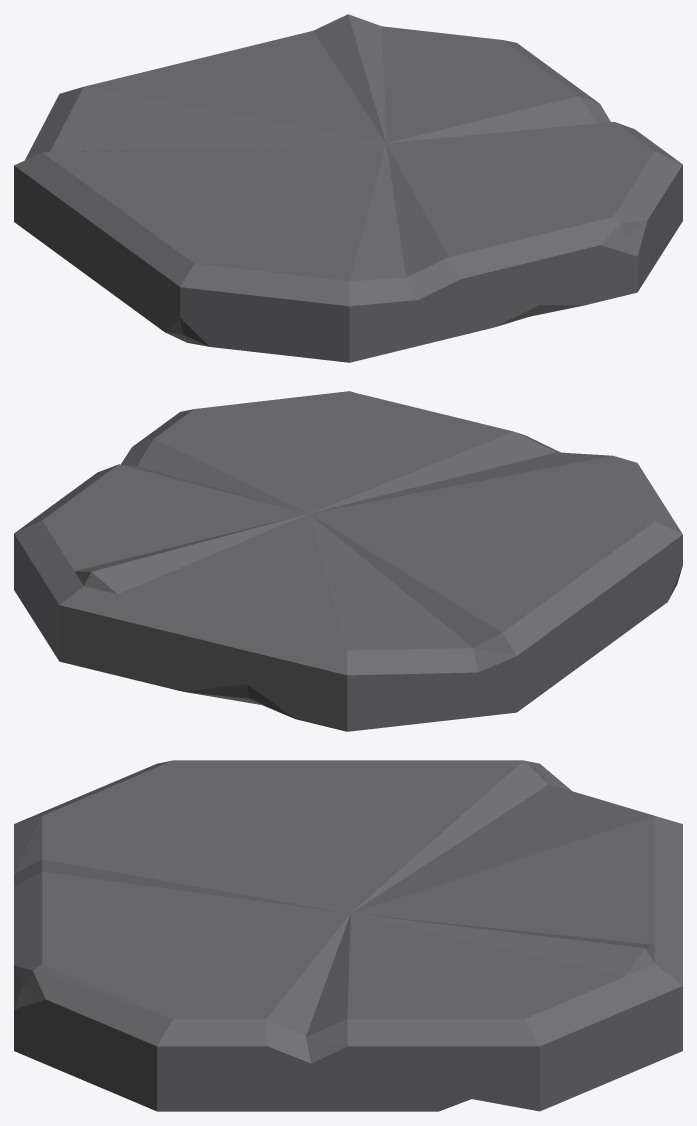
File: SM_Bld_Castle_Tower_Base_02.gltf
3 renders of one model, top to bottom at view 1: azimuth 30°, elevation 25°; view 2: azimuth 150°, elevation 25°; view 3: azimuth 270°, elevation 25°, orthographic. The views are drawn at different scales.
Parts seen in each view (by area): view 1: SM_Bld_Castle_Tower_Base_02; view 2: SM_Bld_Castle_Tower_Base_02; view 3: SM_Bld_Castle_Tower_Base_02.
Part boxes in pixels (x1,y1,x2,y2): SM_Bld_Castle_Tower_Base_02: (14,14,682,362); SM_Bld_Castle_Tower_Base_02: (14,391,682,731); SM_Bld_Castle_Tower_Base_02: (14,760,682,1111).
Bounding box in the file's own units: 2.84 × 0.491 × 2.84.
Materials: 1 (1 with a texture image).
